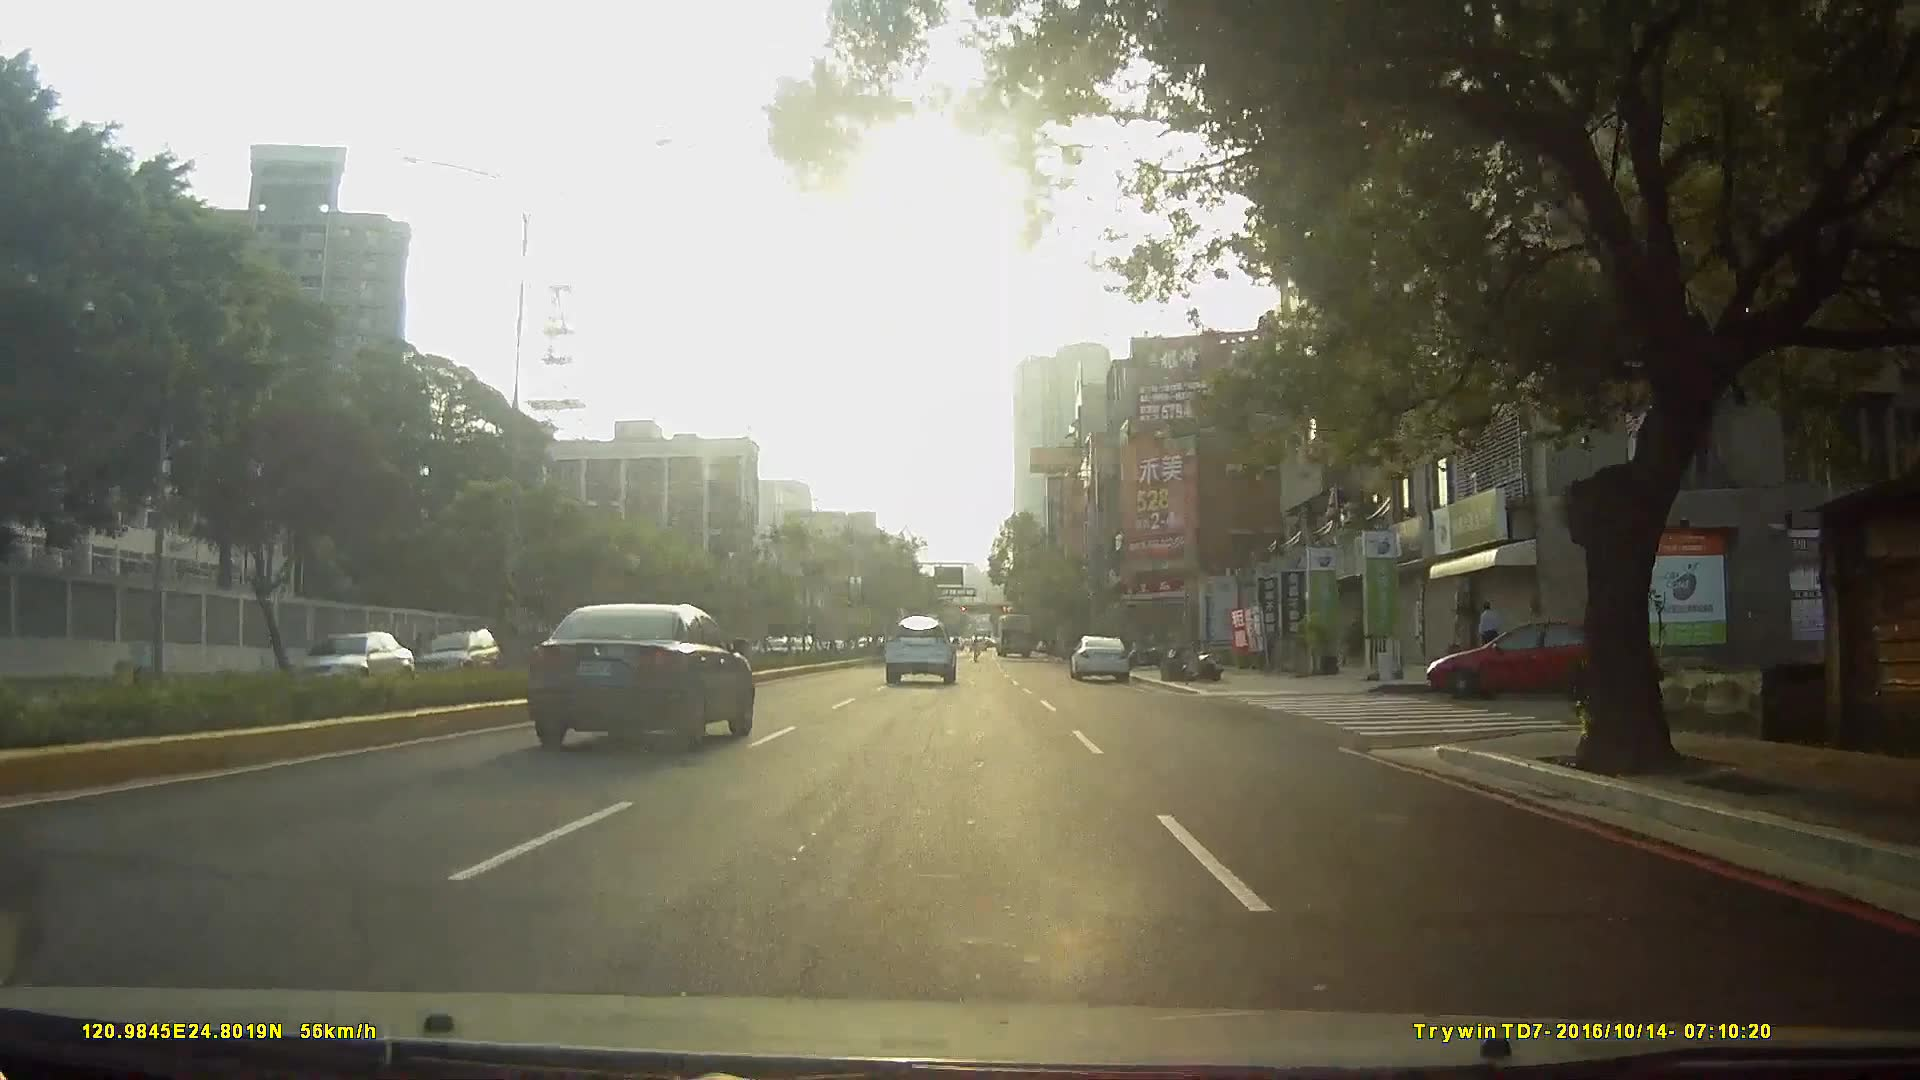pedestrian: (1477, 601, 1501, 671)
vehicle: (532, 596, 759, 748), (1419, 610, 1650, 705), (286, 621, 425, 696), (417, 611, 511, 669), (884, 612, 958, 681), (1068, 628, 1134, 676), (992, 603, 1036, 651)
